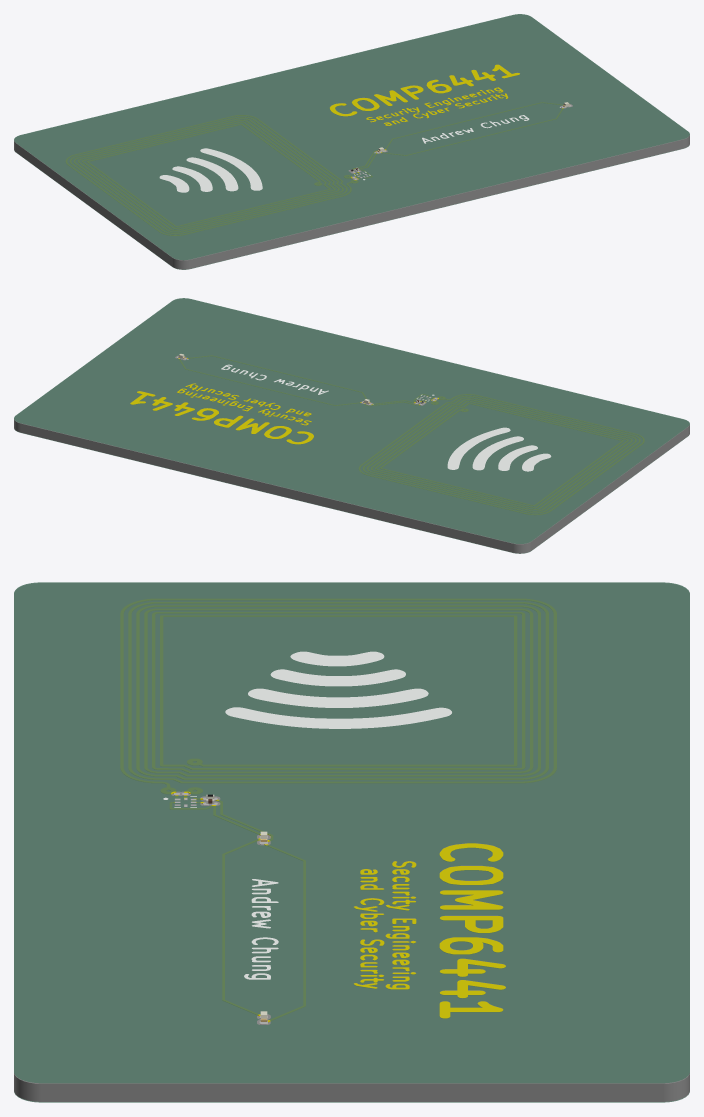
File: board.glb
3 views of the same model, one above another, from view 1: azimuth 30°, elevation 25°; view 2: azimuth 150°, elevation 25°; view 3: azimuth 270°, elevation 25° (orthographic). The views are drawn at different scales.
Parts seen in each view (by area): view 1: =>[0:1:1:9], =>[0:1:1:10], =>[0:1:1:5], =>[0:1:1:8]; view 2: =>[0:1:1:9], =>[0:1:1:10], =>[0:1:1:5], =>[0:1:1:8]; view 3: =>[0:1:1:9], =>[0:1:1:10], =>[0:1:1:5], =>[0:1:1:8].
Part boxes in pixels (left/top/right/bottom): =>[0:1:1:9]: left=14, top=14, right=689, bottom=269; =>[0:1:1:10]: left=14, top=15, right=689, bottom=269; =>[0:1:1:5]: left=66, top=64, right=563, bottom=235; =>[0:1:1:8]: left=159, top=107, right=560, bottom=192; =>[0:1:1:9]: left=14, top=298, right=689, bottom=553; =>[0:1:1:10]: left=14, top=299, right=689, bottom=553; =>[0:1:1:5]: left=130, top=356, right=643, bottom=514; =>[0:1:1:8]: left=187, top=359, right=551, bottom=471; =>[0:1:1:9]: left=14, top=582, right=689, bottom=1102; =>[0:1:1:10]: left=14, top=583, right=689, bottom=1101; =>[0:1:1:5]: left=121, top=599, right=556, bottom=1022; =>[0:1:1:8]: left=163, top=651, right=451, bottom=979.
Bounding box in the file's own units: 0.0894 × 0.00215 × 0.051.
